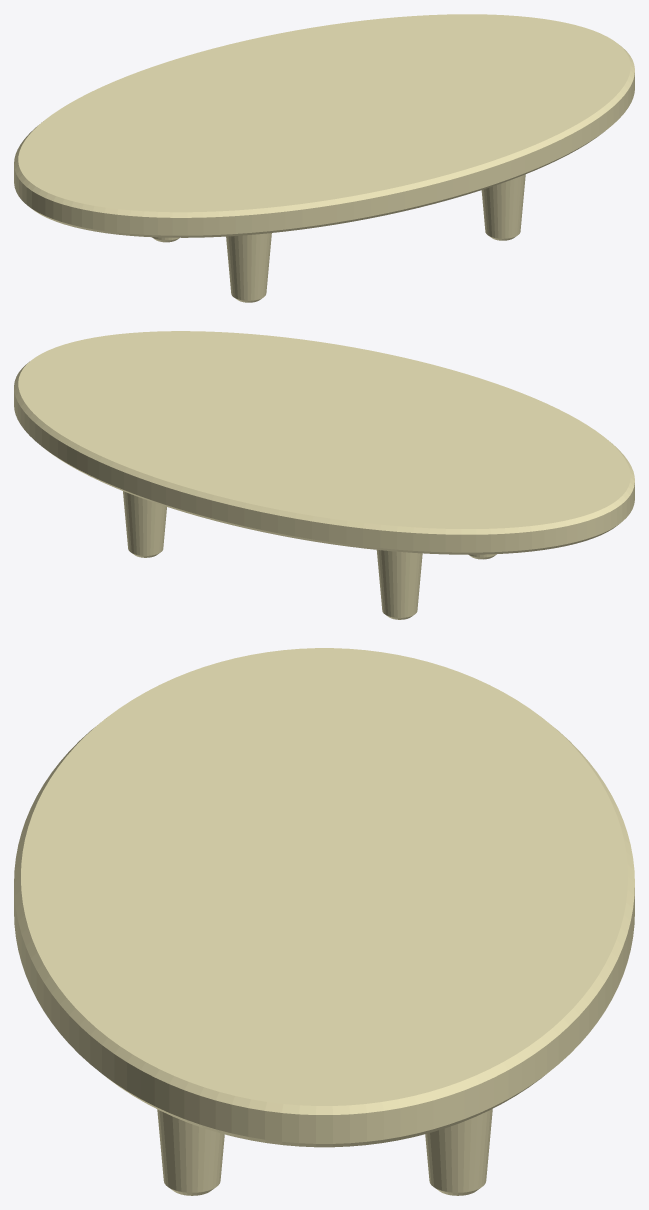
The picture shows the model from 3 angles, top to bottom: view 1: azimuth 30°, elevation 25°; view 2: azimuth 150°, elevation 25°; view 3: azimuth 270°, elevation 25°; orthographic projection. The views are drawn at different scales.
Parts seen in each view (by area): view 1: Cube.002; view 2: Cube.002; view 3: Cube.002.
Boxes of the visible parts, bbox=[...] form: Cube.002: bbox=[14, 14, 634, 302]; Cube.002: bbox=[14, 331, 634, 619]; Cube.002: bbox=[14, 648, 634, 1195].
Bounding box in the file's own units: 1.24 × 0.2512 × 0.7.
